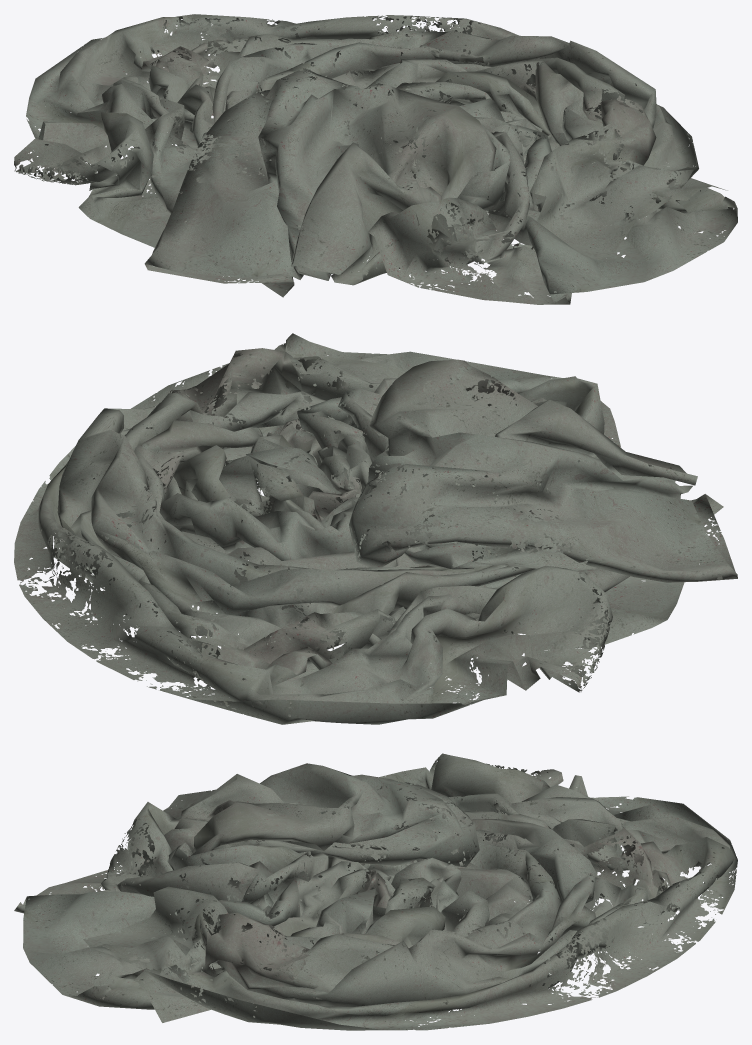
The model's file is SM_Fabric_floor_01.fbx.
3 renders of one model, top to bottom at view 1: azimuth 30°, elevation 25°; view 2: azimuth 150°, elevation 25°; view 3: azimuth 270°, elevation 25°, orthographic. The views are drawn at different scales.
Visible parts, largest first — view 1: SM_Fabric_floor_01_LOD0; view 2: SM_Fabric_floor_01_LOD0; view 3: SM_Fabric_floor_01_LOD0.
Part boxes in pixels (<box>): SM_Fabric_floor_01_LOD0: <box>14,14,737,304</box>; SM_Fabric_floor_01_LOD0: <box>14,333,737,724</box>; SM_Fabric_floor_01_LOD0: <box>14,753,737,1030</box>.
Size of the model in its own units: 84.83 by 101 by 16.09.
1 material, 1 textured.
